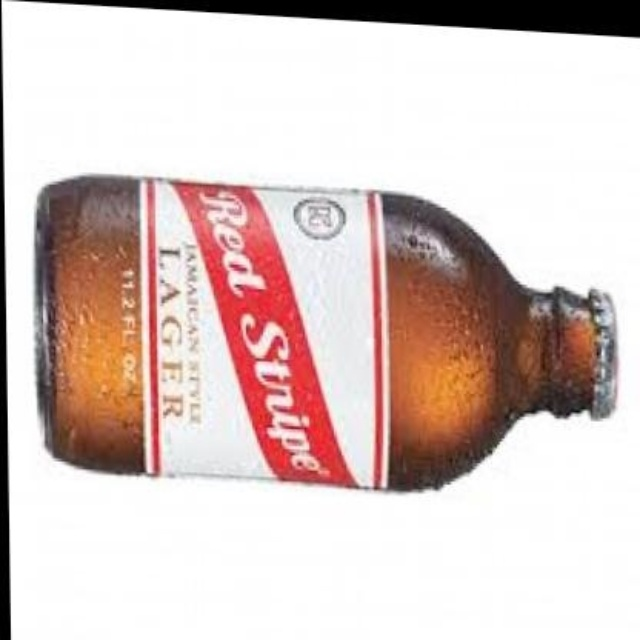trash: (37, 177, 615, 488)
